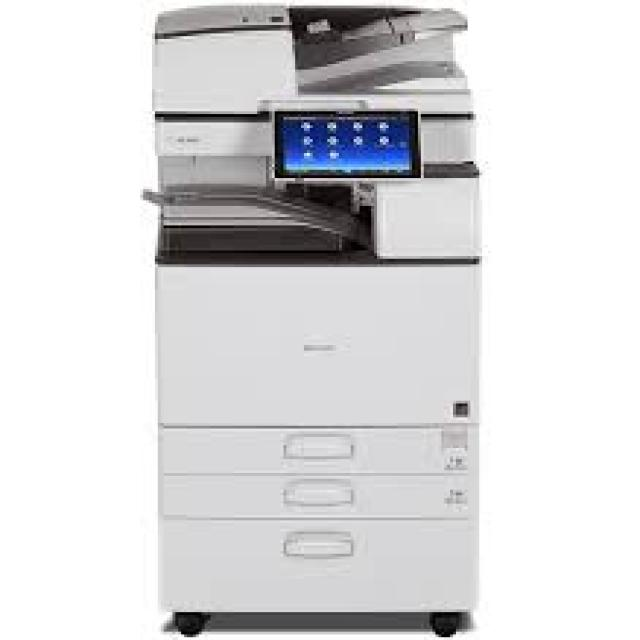printer: (140, 0, 482, 259)
